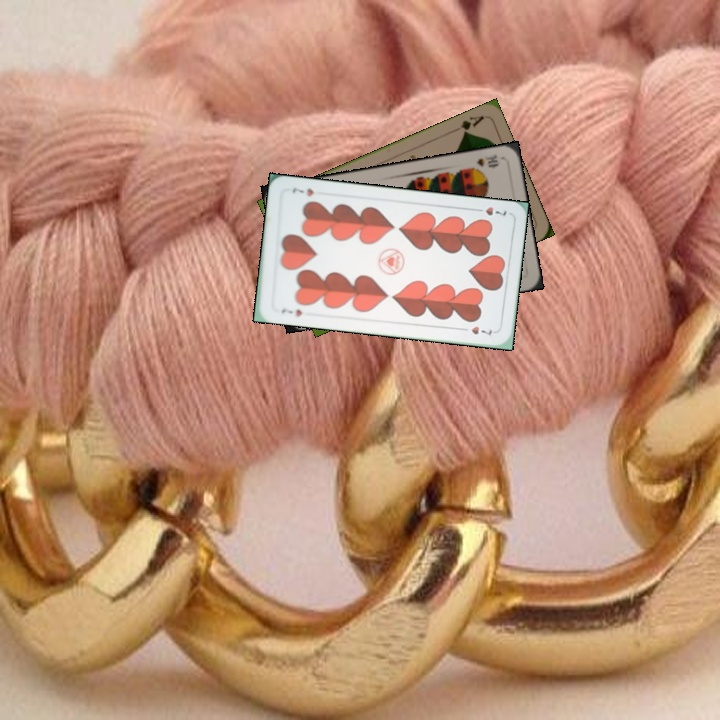GA: (448, 111, 487, 137)
H7: (470, 203, 510, 219), (277, 304, 305, 319)
S10: (472, 150, 501, 170)
